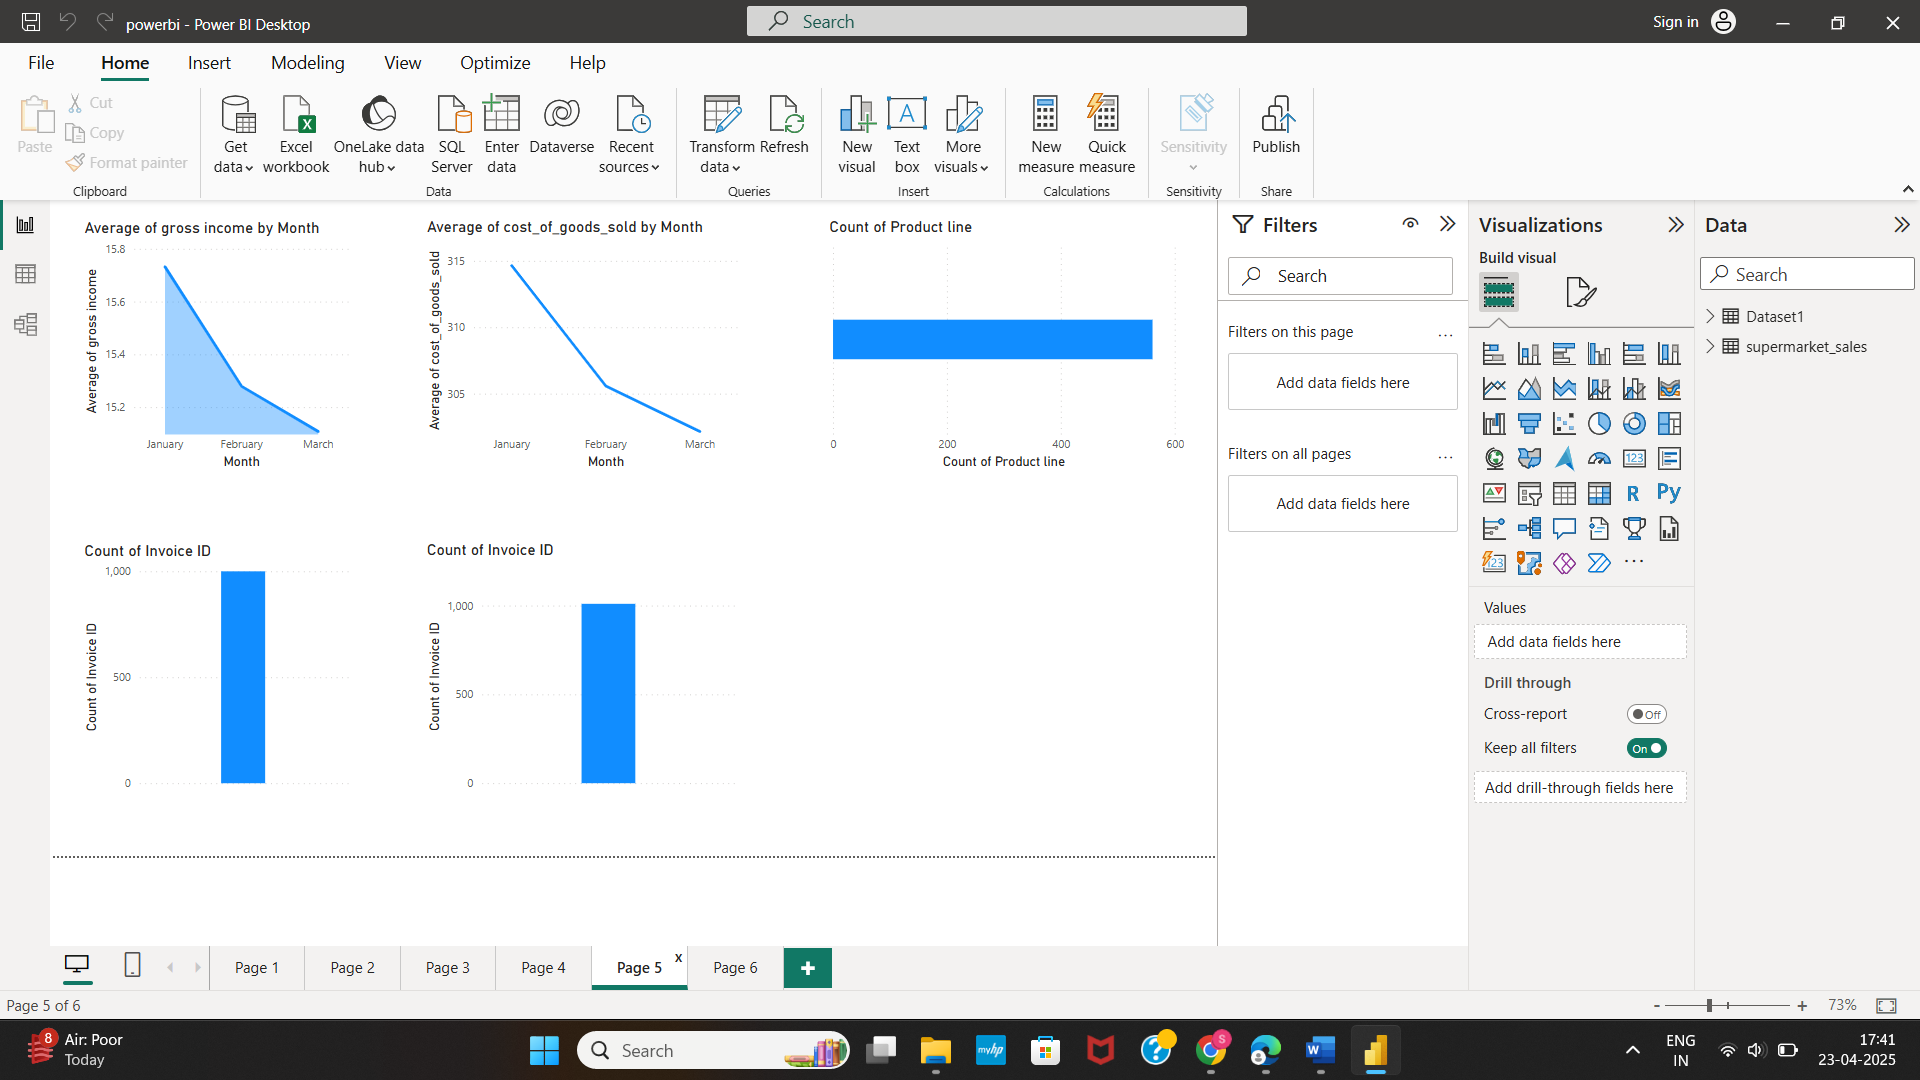

What the dashboard file says about the page in this screenshot:
{"tool":"powerbi","page":{"name":"Page 5","canvas":[1280,720],"ordinal":4},"visuals":[{"type":"areaChart","fields":{"Category":["supermarket_sales.Date of purchase.Variation.Date Hierarchy.Month"],"Y":["Avg(supermarket_sales.gross income)"]},"box":[32.9,20.6,300.3,279.7],"z":0},{"type":"lineChart","fields":{"Category":["supermarket_sales.Date of purchase.Variation.Date Hierarchy.Month"],"Y":["Avg(supermarket_sales.cost_of_goods_sold)"]},"box":[408.6,19.2,351,281.1],"z":1000},{"type":"columnChart","fields":{"Y":["CountNonNull(supermarket_sales.Invoice ID)"]},"box":[408.6,372.9,351,281.1],"z":2000},{"type":"columnChart","fields":{"Y":["Count(supermarket_sales.Invoice ID)"]},"box":[32.9,374.3,300.3,279.7],"z":3000},{"type":"barChart","fields":{"Y":["CountNonNull(supermarket_sales.Product line)"]},"box":[850,19.2,399,281.1],"z":4000}]}

Visuals, with their boxes on the page's 1280x720 design canvas (x1, y1, x2, y2). These are canvas units, not pixel positions in the 1920x1080 screenshot, which may show the page scaled, cropped or inside an application window:
areaChart - supermarket_sales.Date of purchase.Variation.Date Hierarchy.Month x Avg(supermarket_sales.gross income): [33, 21, 333, 300]
lineChart - supermarket_sales.Date of purchase.Variation.Date Hierarchy.Month x Avg(supermarket_sales.cost_of_goods_sold): [409, 19, 760, 300]
columnChart - CountNonNull(supermarket_sales.Invoice ID): [409, 373, 760, 654]
columnChart - Count(supermarket_sales.Invoice ID): [33, 374, 333, 654]
barChart - CountNonNull(supermarket_sales.Product line): [850, 19, 1249, 300]
